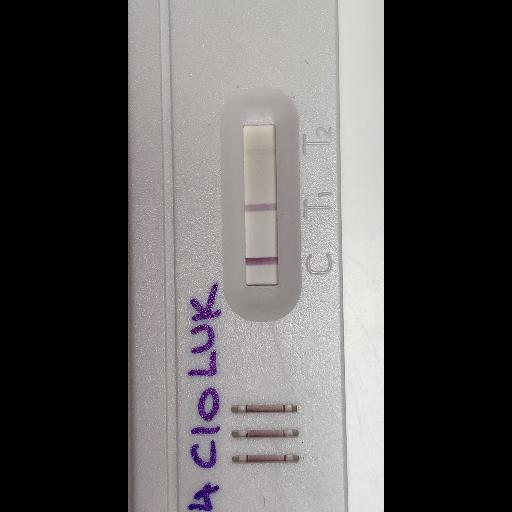Pos: (128, 0, 343, 511)
